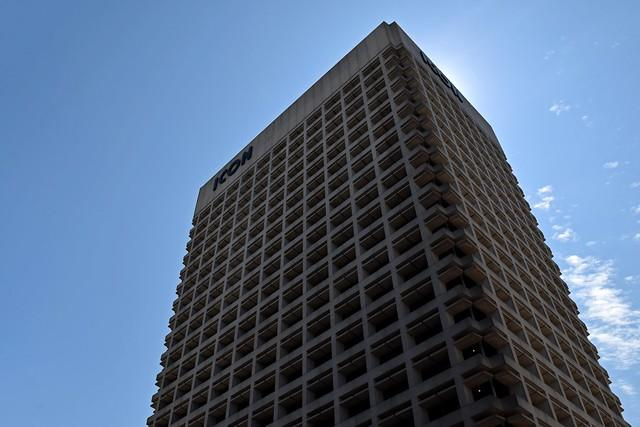building: (140, 18, 630, 427)
